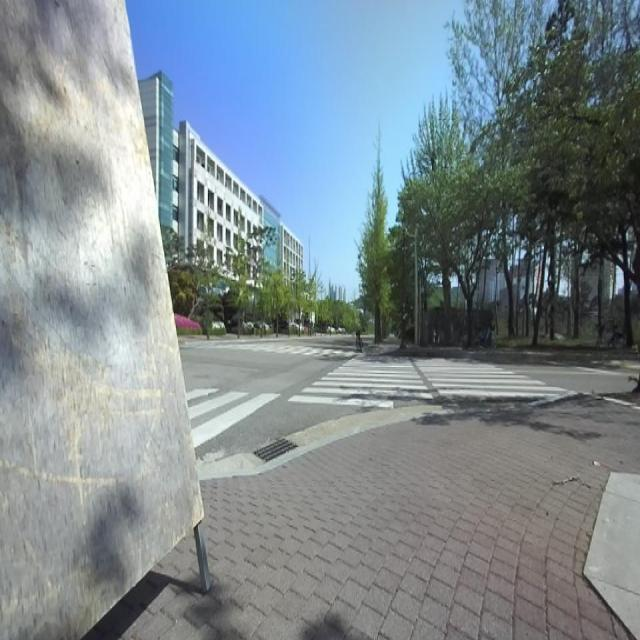sidewalk: (88, 395, 640, 639), (198, 405, 531, 479), (585, 472, 640, 640)
